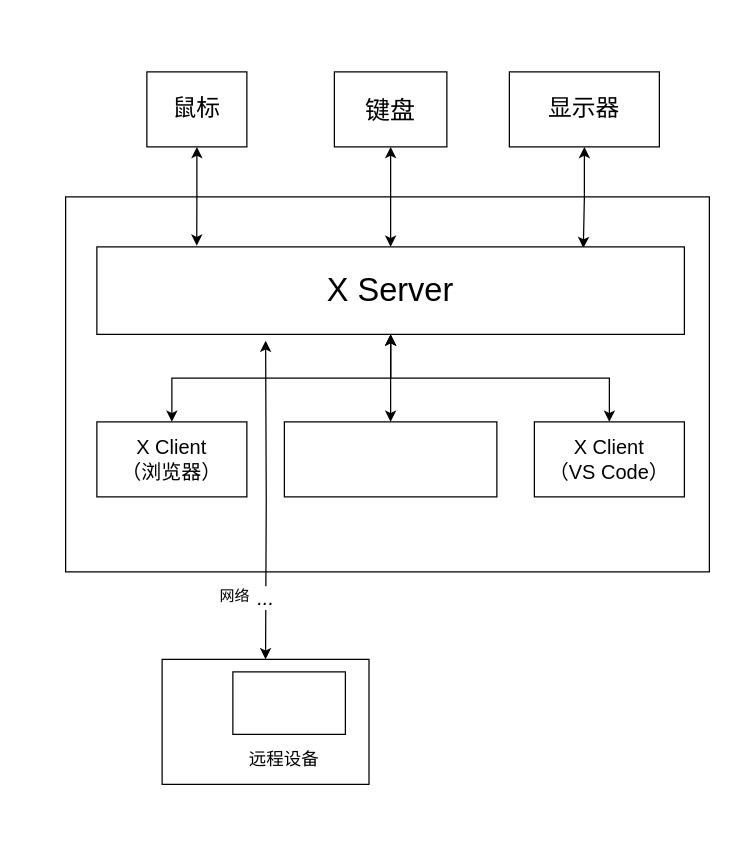
Image size: 731x855. Some labels were removed from this diagram. Each missing label, with the centre of its shape:
"X Client （Window Manager）" goes at [390,459].
"X Client （终端）" goes at [288,702].
